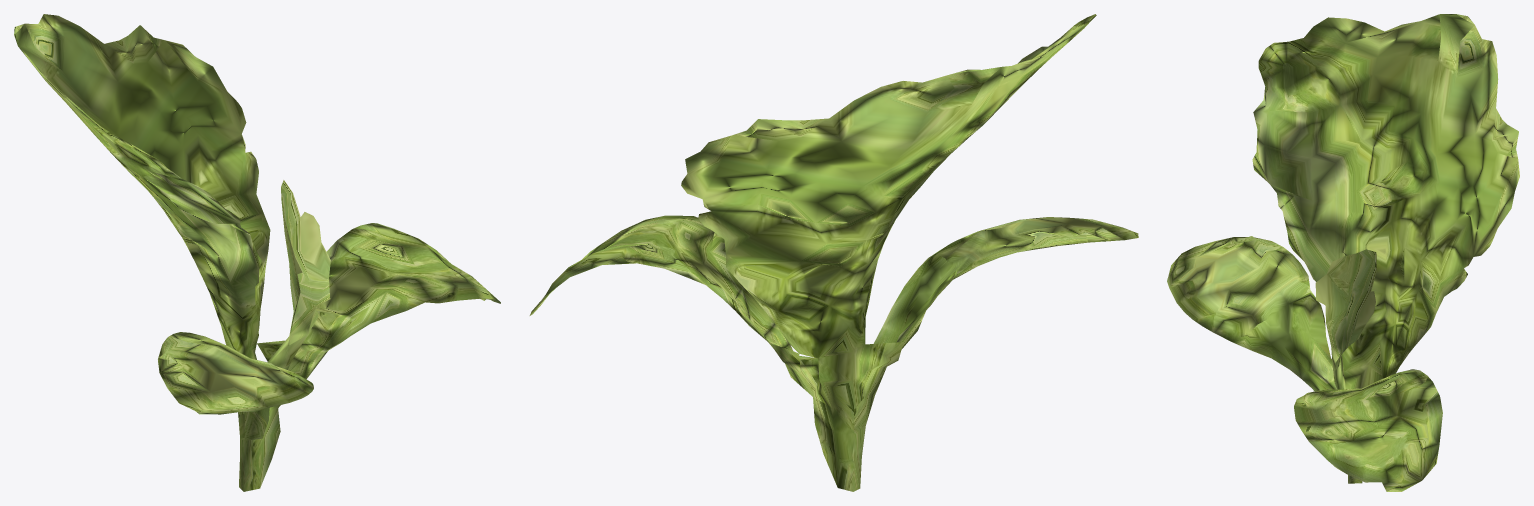
File: lingcao_qingxin_sprout.obj
3 renders of one model, left to right at view 1: azimuth 30°, elevation 25°; view 2: azimuth 150°, elevation 25°; view 3: azimuth 270°, elevation 25°, orthographic. The views are drawn at different scales.
Visible parts, largest first — view 1: lingcao_qingxin_sprout; view 2: lingcao_qingxin_sprout; view 3: lingcao_qingxin_sprout.
Boxes of the visible parts, x1,y1,x2,y2 form: lingcao_qingxin_sprout: [14, 14, 500, 491]; lingcao_qingxin_sprout: [529, 14, 1138, 491]; lingcao_qingxin_sprout: [1167, 14, 1519, 491].
Size of the model in its own units: 0.0852 by 0.0833 by 0.0674.
Materials: 1 (1 with a texture image).
